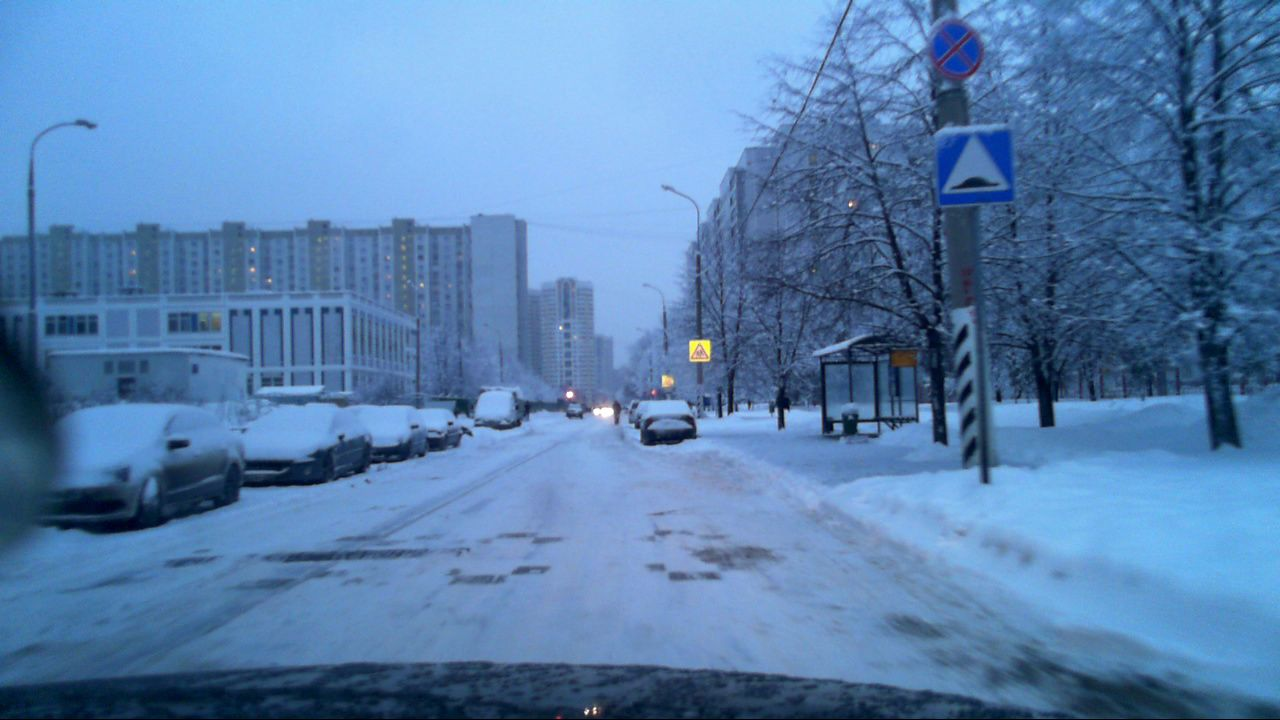No Parking: (925, 13, 987, 76)
